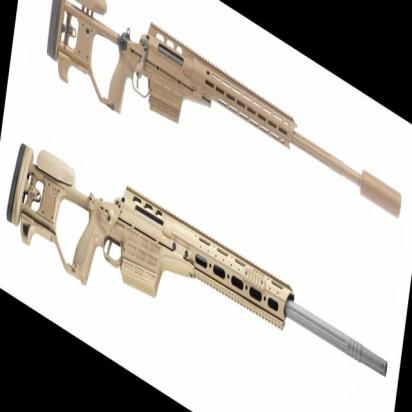Gun: (36, 0, 406, 146)
